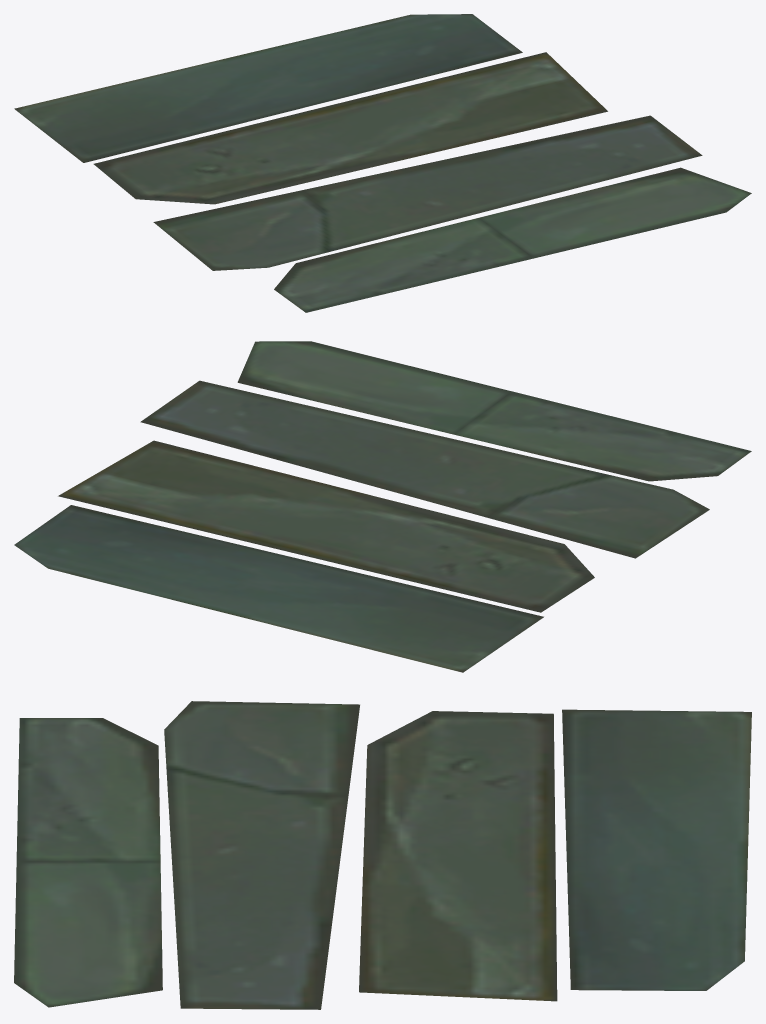
File: FB_1_shizhuan01.FBX
The picture shows the model from 3 angles, top to bottom: view 1: azimuth 30°, elevation 25°; view 2: azimuth 150°, elevation 25°; view 3: azimuth 270°, elevation 25°; orthographic projection. The views are drawn at different scales.
Parts seen in each view (by area): view 1: FB_1_shizhuan01_001, FB_1_shizhuan01_002, FB_1_shizhuan01_000, FB_1_shizhuan01_003; view 2: FB_1_shizhuan01_001, FB_1_shizhuan01_002, FB_1_shizhuan01_000, FB_1_shizhuan01_003; view 3: FB_1_shizhuan01_001, FB_1_shizhuan01_002, FB_1_shizhuan01_000, FB_1_shizhuan01_003.
Part boxes in pixels (x1=…): FB_1_shizhuan01_001: x1=93, y1=52, x2=607, y2=204; FB_1_shizhuan01_002: x1=153, y1=115, x2=702, y2=270; FB_1_shizhuan01_000: x1=14, y1=14, x2=522, y2=162; FB_1_shizhuan01_003: x1=274, y1=167, x2=751, y2=312; FB_1_shizhuan01_001: x1=58, y1=440, x2=594, y2=612; FB_1_shizhuan01_002: x1=140, y1=380, x2=709, y2=558; FB_1_shizhuan01_000: x1=14, y1=505, x2=543, y2=672; FB_1_shizhuan01_003: x1=237, y1=341, x2=751, y2=481; FB_1_shizhuan01_001: x1=359, y1=711, x2=557, y2=1001; FB_1_shizhuan01_002: x1=164, y1=701, x2=359, y2=1009; FB_1_shizhuan01_000: x1=562, y1=709, x2=751, y2=990; FB_1_shizhuan01_003: x1=14, y1=718, x2=162, y2=1007.
Bounding box in the file's own units: 795 × 6.12e-14 × 803.
1 material, 1 textured.
